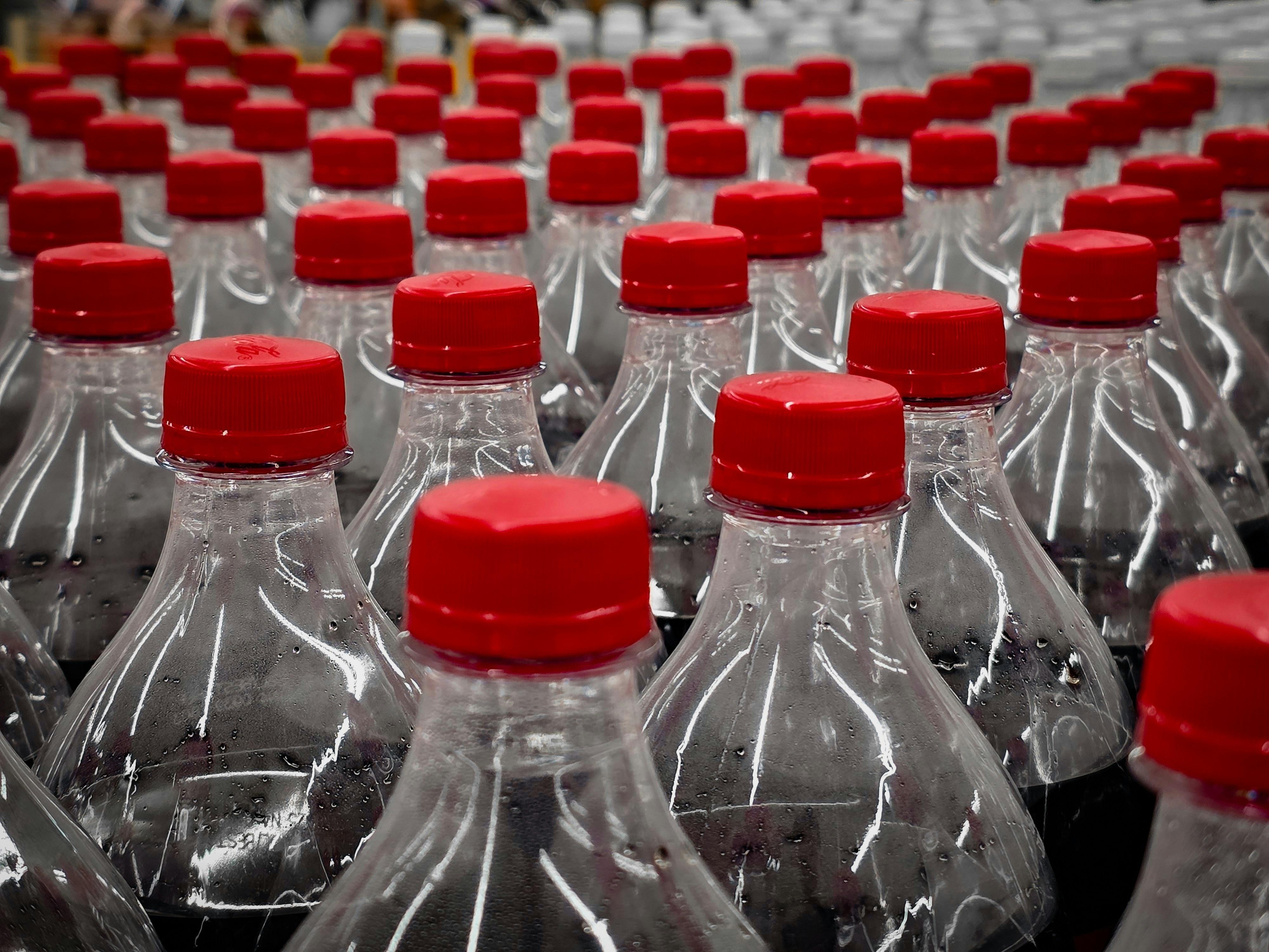Bottle-Detection: (266, 457, 799, 952), (29, 327, 463, 927), (663, 349, 1072, 952), (990, 222, 1263, 682), (10, 228, 216, 701), (568, 213, 777, 543), (1123, 546, 1269, 952), (257, 25, 482, 146), (289, 171, 460, 330), (911, 124, 1041, 270), (644, 70, 790, 200), (809, 146, 930, 301), (41, 76, 197, 190), (155, 146, 305, 260), (876, 63, 1142, 127), (1164, 41, 1269, 187), (419, 152, 536, 270), (558, 32, 663, 159), (476, 44, 542, 178)
